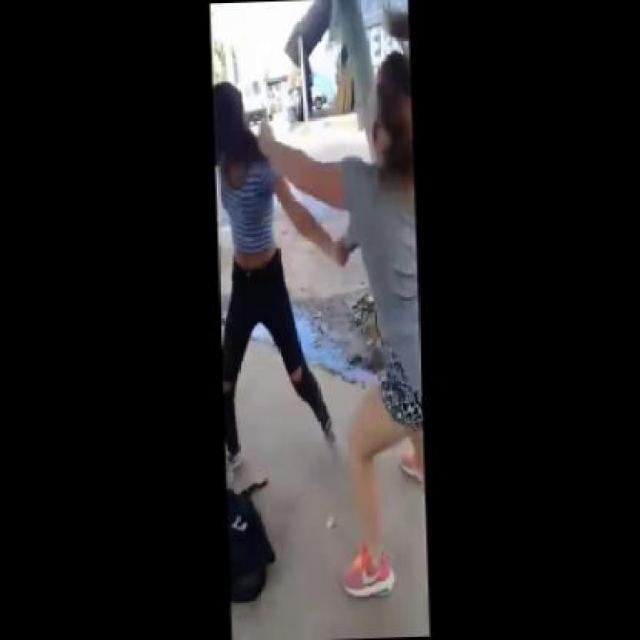fight: (213, 73, 421, 398)
